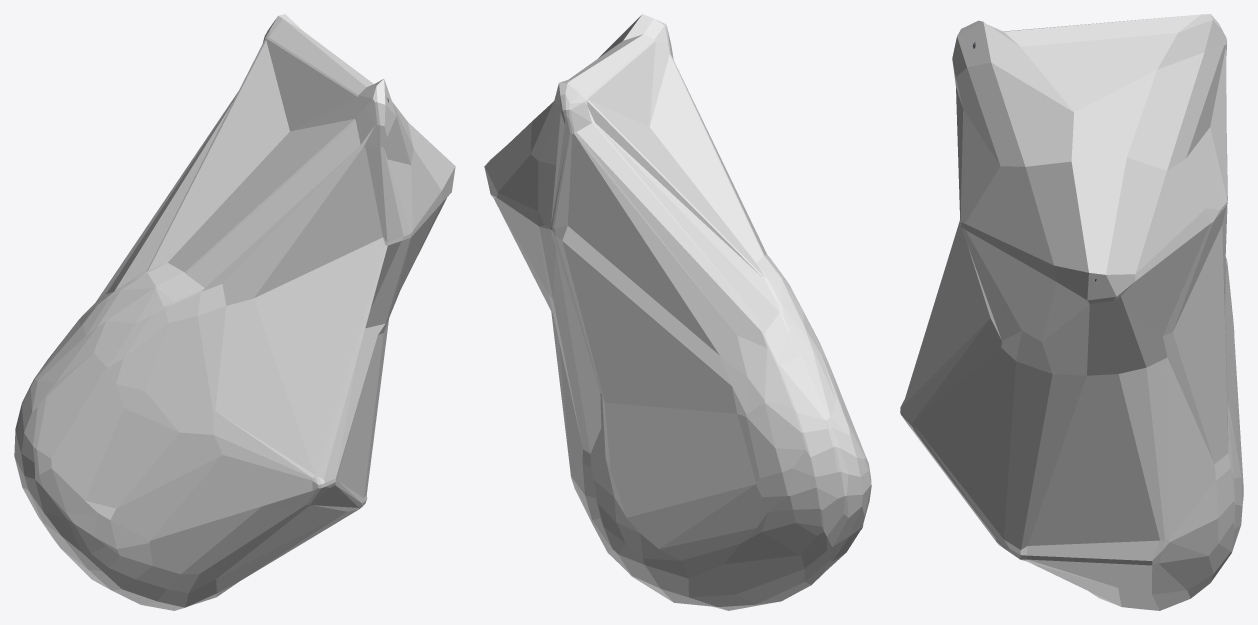
File: Fox.fbx
3 renders of one model, left to right at view 1: azimuth 30°, elevation 25°; view 2: azimuth 150°, elevation 25°; view 3: azimuth 270°, elevation 25°, orthographic. The views are drawn at different scales.
Parts seen in each view (by area): view 1: fox; view 2: fox; view 3: fox.
Boxes of the visible parts, bbox=[...] form: fox: bbox=[14, 14, 455, 610]; fox: bbox=[484, 14, 871, 610]; fox: bbox=[900, 14, 1243, 610].
Bounding box in the file's own units: 98.91 × 123 × 58.18.
